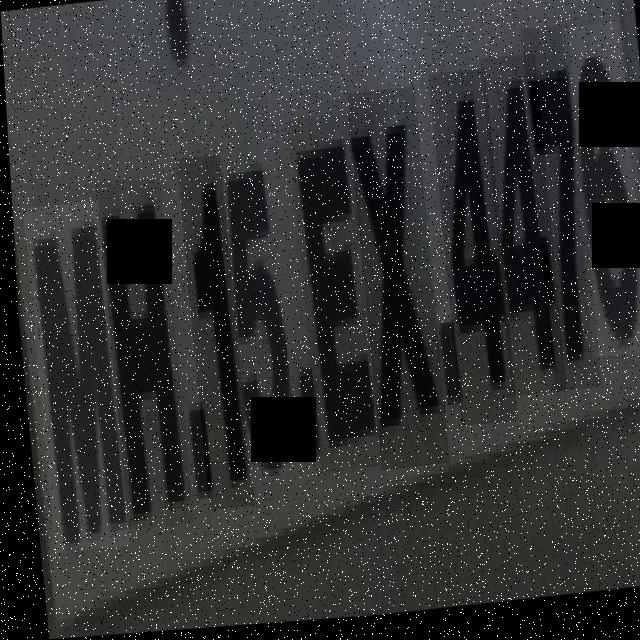1: (174, 157, 248, 514)
4: (426, 75, 512, 435), (478, 60, 561, 406)
5: (215, 134, 301, 490)
6: (561, 31, 640, 369)
7: (519, 32, 596, 400)
E: (286, 117, 379, 478)
H: (94, 179, 188, 531)
M: (20, 201, 124, 554)
X: (346, 91, 445, 476)
